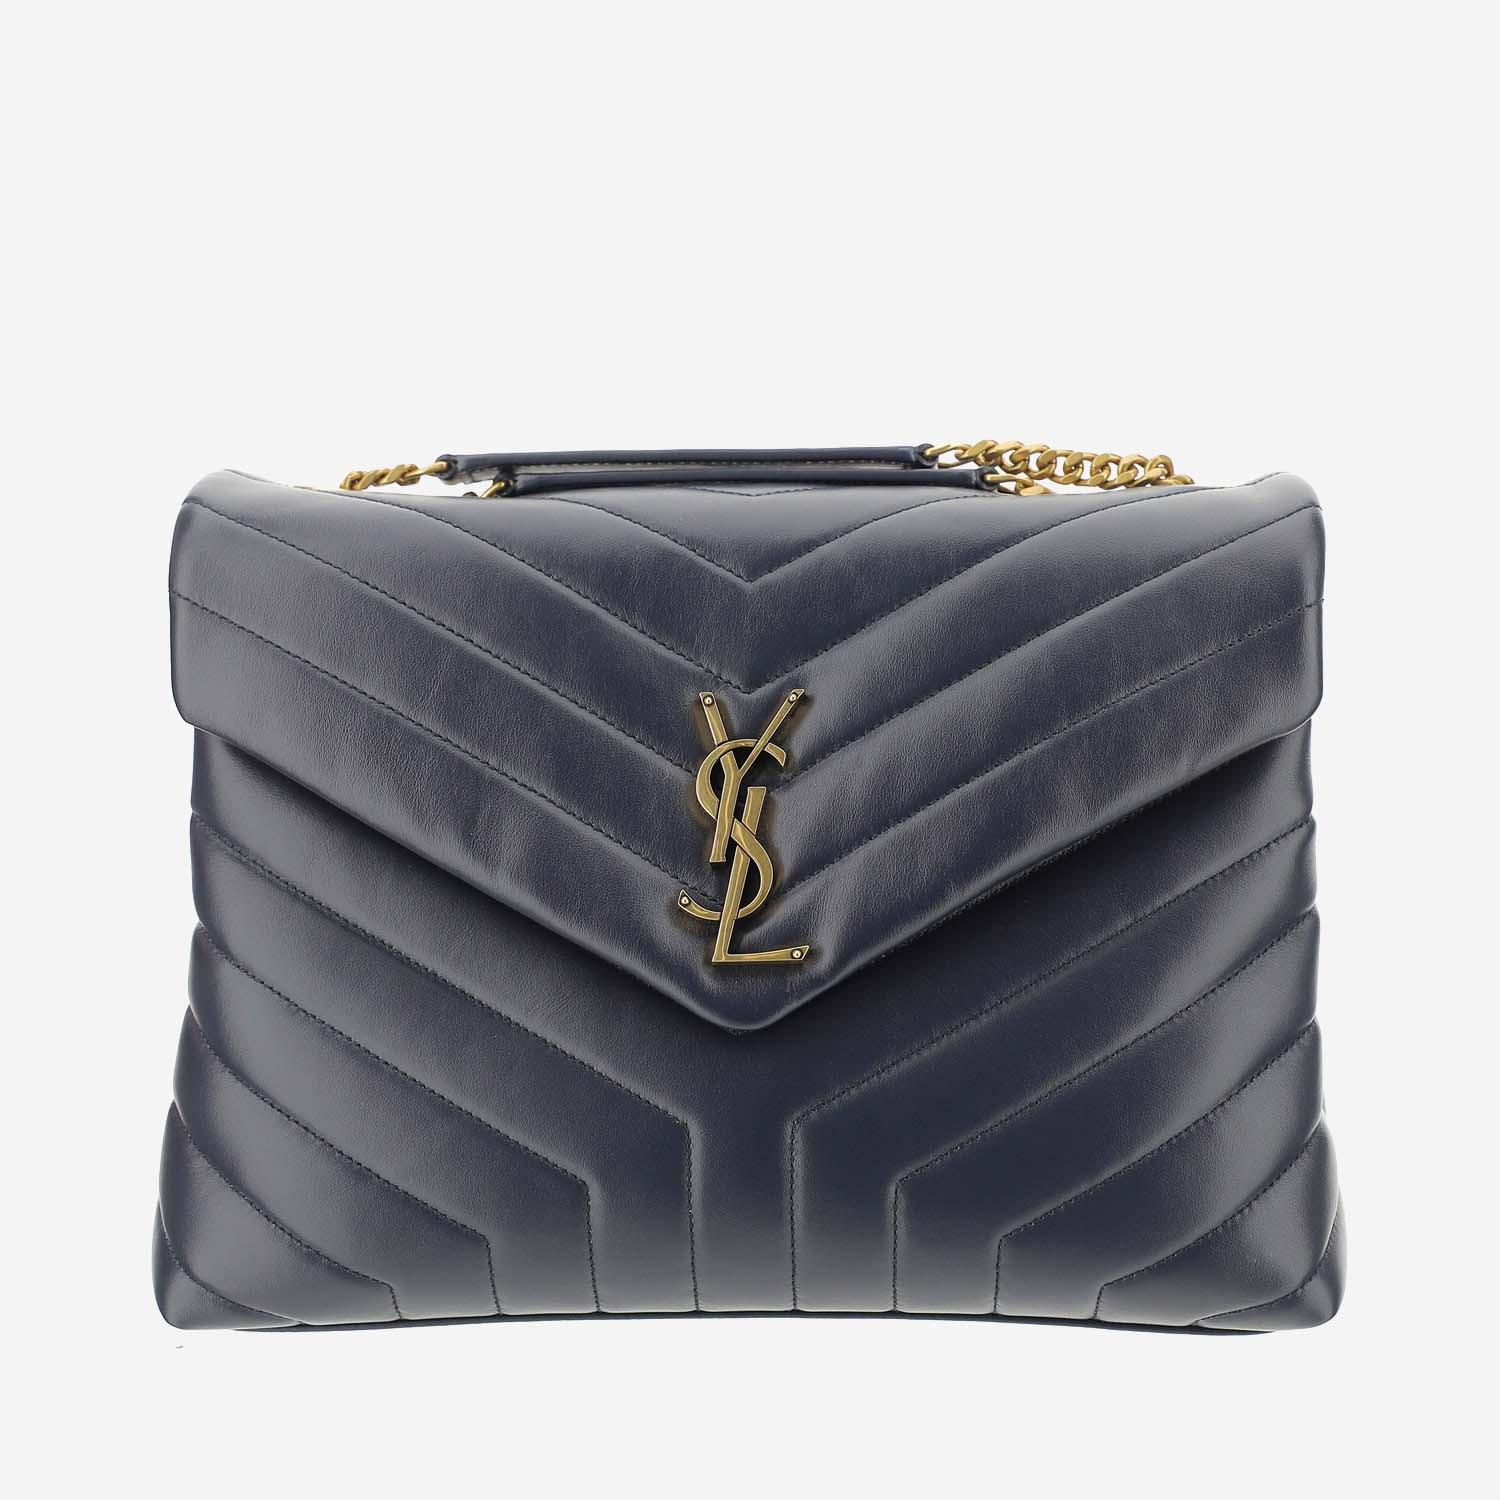YVES-SAINT-LAURENT: (677, 688, 810, 963)
